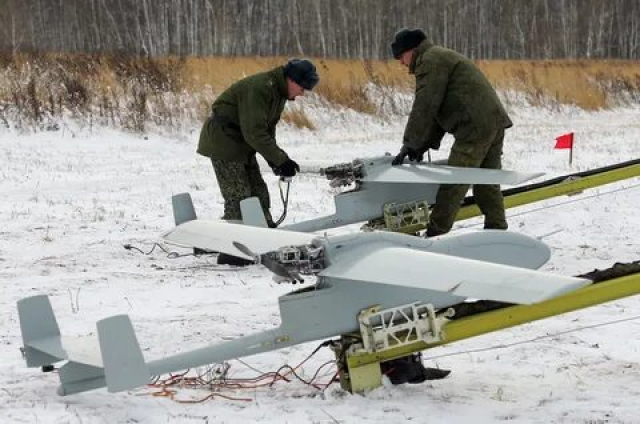military drone: (16, 217, 593, 396), (171, 151, 546, 254)
